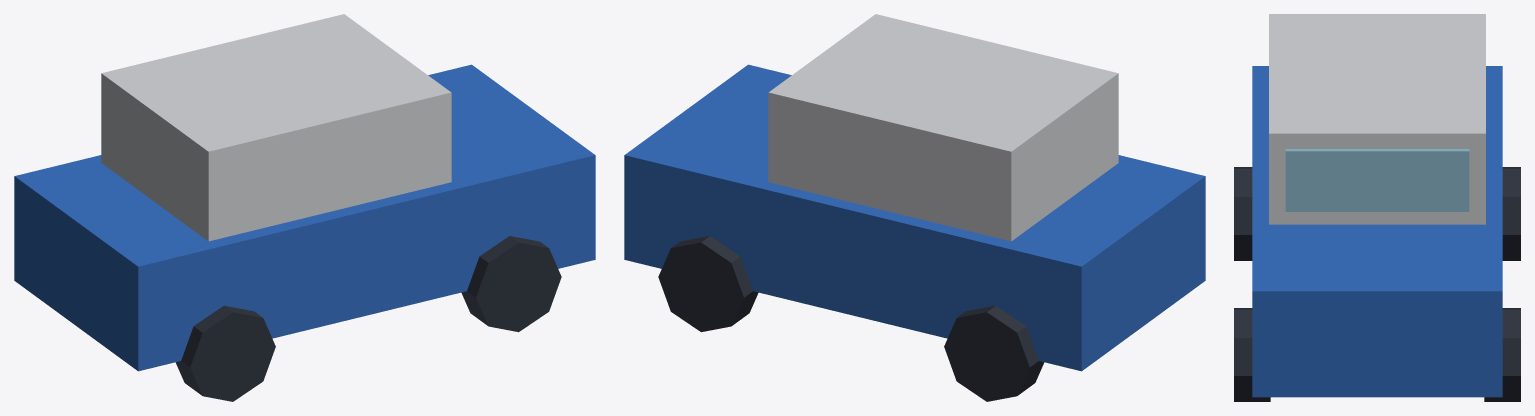
Rendered from car_a.glb.
3 views of the same model, side by side, from view 1: azimuth 30°, elevation 25°; view 2: azimuth 150°, elevation 25°; view 3: azimuth 270°, elevation 25° (orthographic).
Visible parts, largest first — view 1: car_a; view 2: car_a; view 3: car_a.
Boxes of the visible parts, x1,y1,x2,y2 form: car_a: (14, 14, 595, 401); car_a: (624, 14, 1205, 401); car_a: (1234, 14, 1520, 401).
Size of the model in its own units: 3.2 by 1.6 by 1.72.
